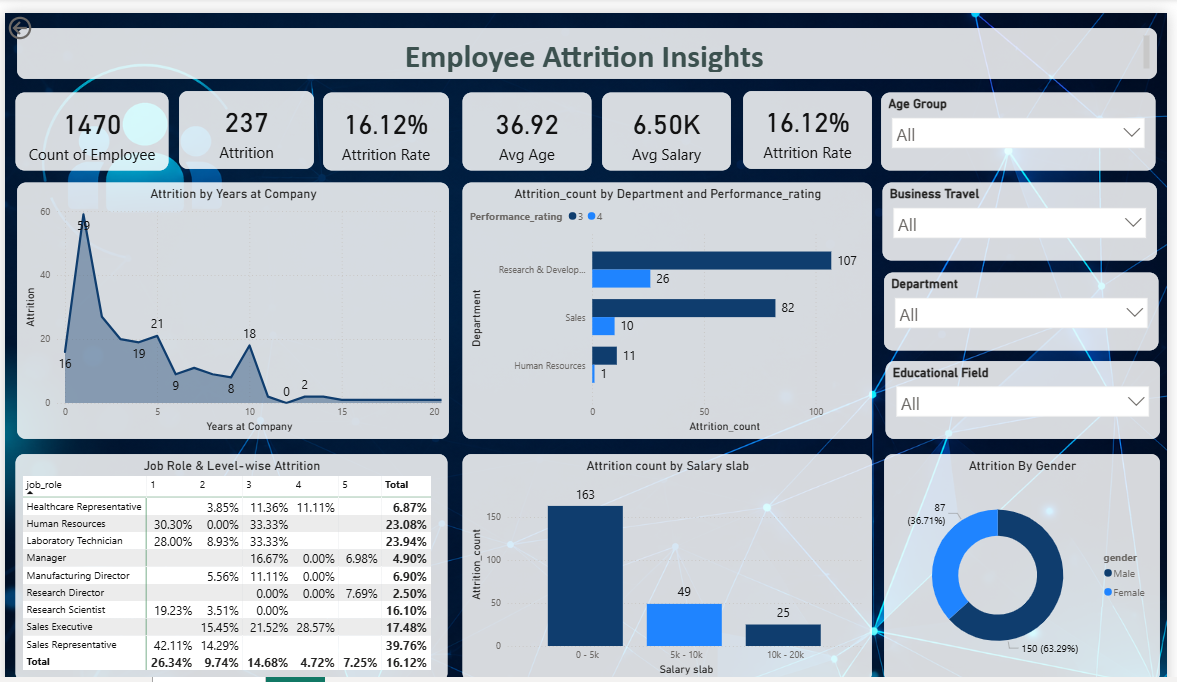

This screenshot's page, from the dashboard's own definition file:
{"tool":"powerbi","page":{"name":"Page 1","canvas":[1550,1000],"ordinal":0},"visuals":[{"type":"textbox","box":[16,20,1520,68],"z":0},{"type":"card","fields":{"Values":["CountNonNull(employee_attrition_analysis1 employee_attrition.employee_number)"]},"box":[14,106,204,104],"z":1000},{"type":"card","fields":{"Values":["attrition_data.Attrition Rate"]},"box":[424,106,168,104],"z":2000},{"type":"card","fields":{"Values":["Sum(attrition_data.attrition_count)"]},"box":[232,104,180,104],"z":3000},{"type":"card","fields":{"Values":["attrition_data.Attrition Rate"]},"box":[984,104,172,104],"z":4000},{"type":"card","fields":{"Values":["Avg(attrition_data.monthly_income)"]},"box":[796,106,172,104],"z":5000},{"type":"card","fields":{"Values":["Avg(attrition_data.age)"]},"box":[610,106,172,104],"z":6000},{"type":"donutChart","title":"Attrition By Gender","fields":{"Category":["attrition_data.gender"],"Y":["Sum(attrition_data.attrition_count)"]},"box":[1172,588,368,304],"z":7000},{"type":"lineChart","title":"Attrition by Years at Company","fields":{"Y":["Sum(attrition_data.attrition_count)"],"Category":["attrition_data.years_at_company"]},"box":[16,226,576,342],"z":8000},{"type":"pivotTable","title":"Job Role & Level-wise Attrition","fields":{"Rows":["attrition_data.job_role"],"Columns":["attrition_data.job_level"],"Values":["attrition_data.Attrition Rate"]},"box":[14,588,576,304],"z":9000},{"type":"actionButton","box":[0,0,100,40],"z":10000},{"type":"clusteredBarChart","fields":{"Category":["attrition_data.department"],"Y":["Sum(attrition_data.attrition_count)"],"Series":["attrition_data.performance_rating"]},"box":[610,226,546,342],"z":11000},{"type":"slicer","title":"Age Group","fields":{"Values":["attrition_data.Age Group"]},"box":[1168,106,366,104],"z":11001},{"type":"slicer","title":"Business Travel","fields":{"Values":["attrition_data.business_travel"]},"box":[1170,226,366,104],"z":11002},{"type":"slicer","title":"Department","fields":{"Values":["attrition_data.department"]},"box":[1172,346,366,104],"z":11003},{"type":"slicer","title":"Educational Field","fields":{"Values":["attrition_data.education_field"]},"box":[1174,464,366,104],"z":11004},{"type":"columnChart","title":"Attrition count by Salary slab","fields":{"Y":["Sum(attrition_data.attrition_count)"],"Category":["attrition_data.Salary slab"]},"box":[610,588,546,304],"z":11005}]}

Visuals, with their boxes on the page's 1550x1000 design canvas (x1, y1, x2, y2). These are canvas units, not pixel positions in the 1177x682 screenshot, which may show the page scaled, cropped or inside an application window:
textbox: box=[16, 20, 1536, 88]
card - CountNonNull(employee_attrition_analysis1 employee_attrition.employee_number): box=[14, 106, 218, 210]
card - attrition_data.Attrition Rate: box=[424, 106, 592, 210]
card - Sum(attrition_data.attrition_count): box=[232, 104, 412, 208]
card - attrition_data.Attrition Rate: box=[984, 104, 1156, 208]
card - Avg(attrition_data.monthly_income): box=[796, 106, 968, 210]
card - Avg(attrition_data.age): box=[610, 106, 782, 210]
"Attrition By Gender" donutChart: box=[1172, 588, 1540, 892]
"Attrition by Years at Company" lineChart: box=[16, 226, 592, 568]
"Job Role & Level-wise Attrition" pivotTable: box=[14, 588, 590, 892]
actionButton: box=[0, 0, 100, 40]
clusteredBarChart - attrition_data.department x Sum(attrition_data.attrition_count): box=[610, 226, 1156, 568]
"Age Group" slicer: box=[1168, 106, 1534, 210]
"Business Travel" slicer: box=[1170, 226, 1536, 330]
"Department" slicer: box=[1172, 346, 1538, 450]
"Educational Field" slicer: box=[1174, 464, 1540, 568]
"Attrition count by Salary slab" columnChart: box=[610, 588, 1156, 892]
